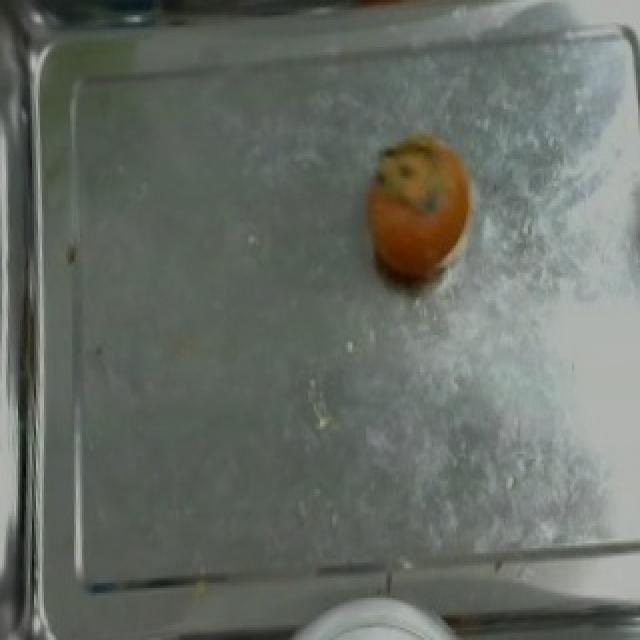Fruit: (350, 119, 490, 298)
